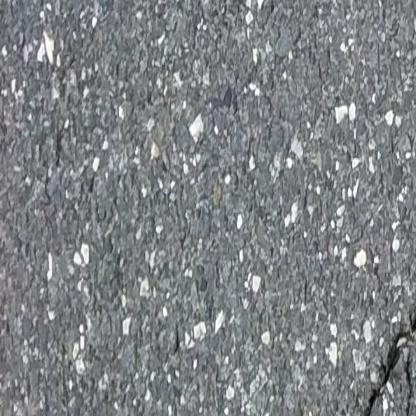Cracks: (343, 264, 416, 416)
